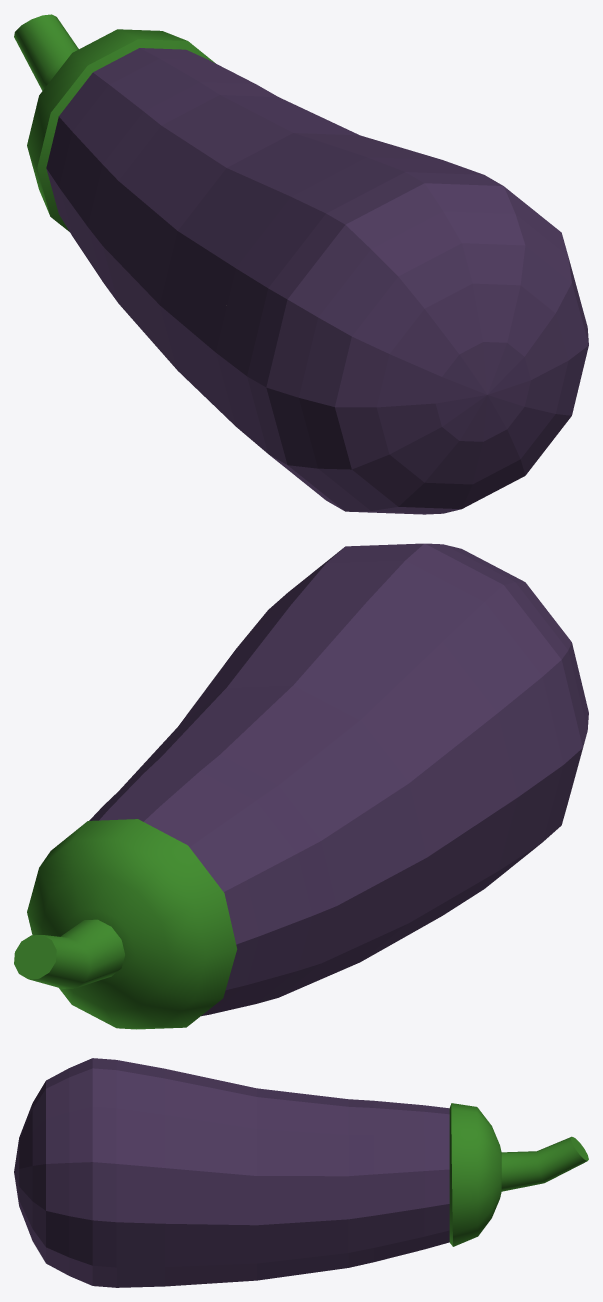
File: Eggplant.fbx
The picture shows the model from 3 angles, top to bottom: view 1: azimuth 30°, elevation 25°; view 2: azimuth 150°, elevation 25°; view 3: azimuth 270°, elevation 25°; orthographic projection. The views are drawn at different scales.
Parts seen in each view (by area): view 1: polySurface172; view 2: polySurface172; view 3: polySurface172.
Boxes of the visible parts, x1,y1,x2,y2 form: polySurface172: (14, 14, 588, 514); polySurface172: (14, 543, 588, 1029); polySurface172: (14, 1058, 588, 1287).
Bounding box in the file's own units: 131 × 132 × 330.
